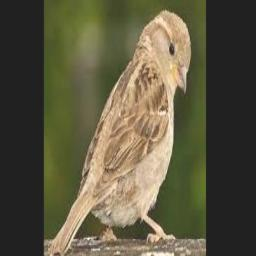Sparrow: (48, 10, 190, 256)
